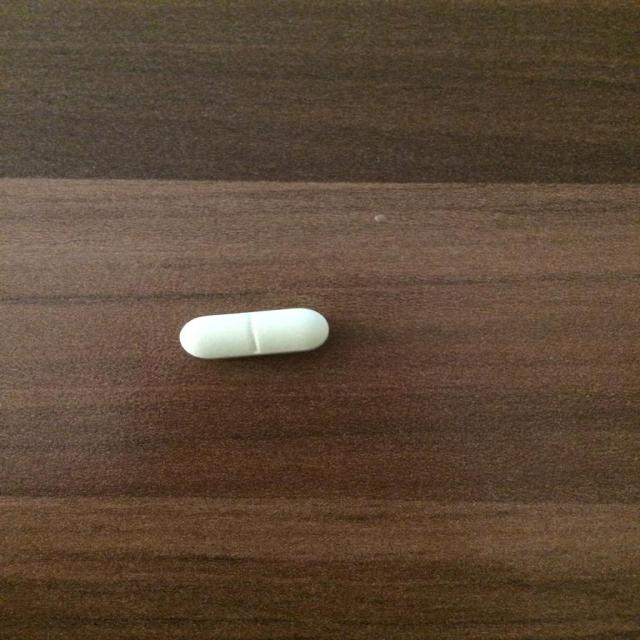pills: (168, 300, 344, 368)
